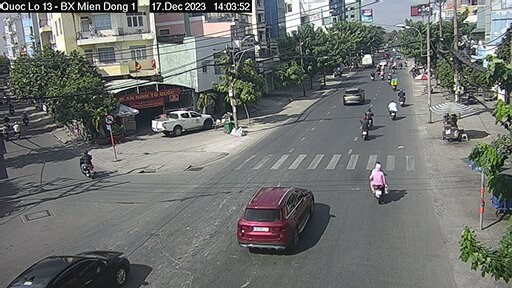car: (236, 181, 319, 255), (149, 109, 215, 138), (342, 87, 367, 106)
motorbike: (371, 159, 392, 205), (76, 150, 94, 179), (358, 114, 372, 142), (386, 97, 399, 126), (396, 90, 409, 107)
